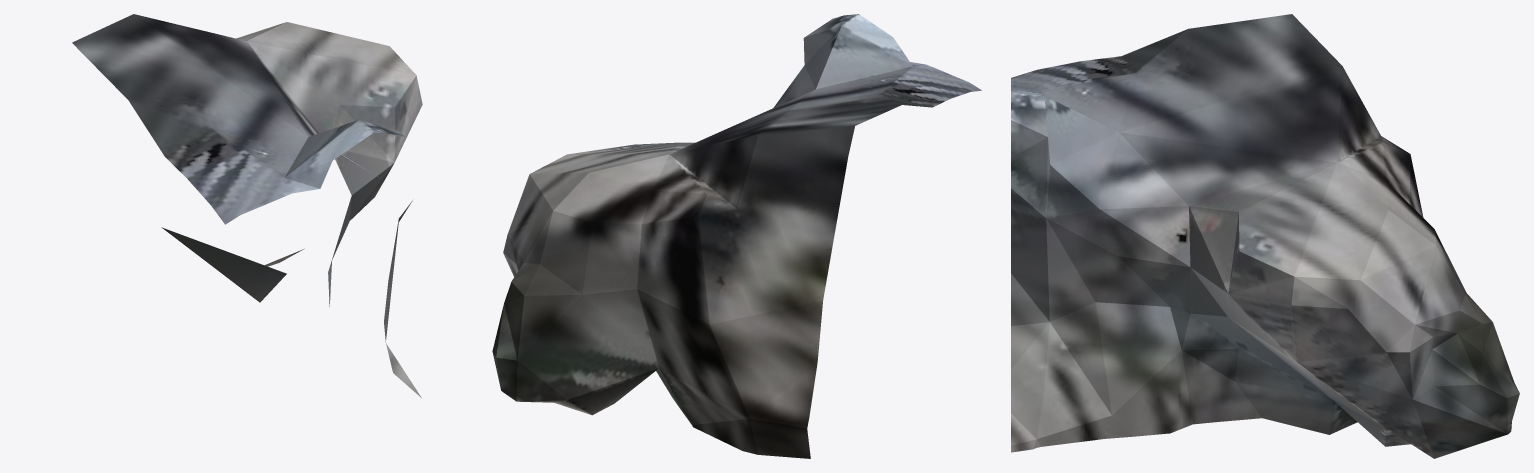
3 views of the same model, side by side, from view 1: azimuth 30°, elevation 25°; view 2: azimuth 150°, elevation 25°; view 3: azimuth 270°, elevation 25° (orthographic). The views are drawn at different scales.
Bounding box in the file's own units: 0.6797 × 0.6468 × 0.8991.
1 material, 1 textured.
